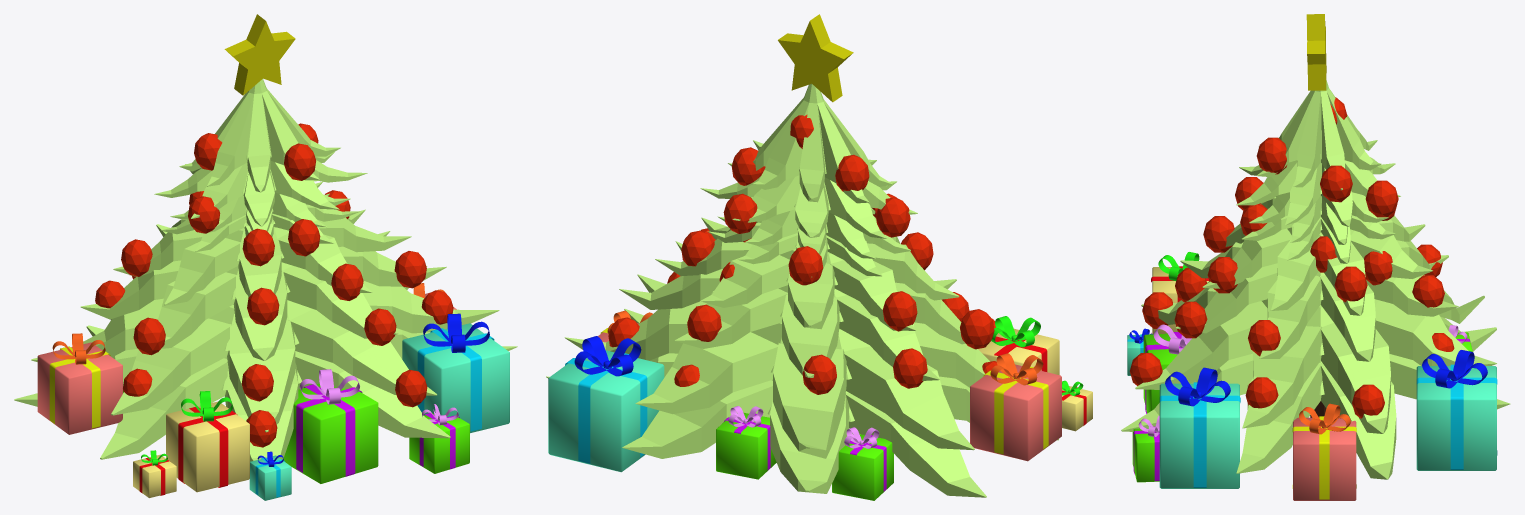
Rendered from gift.fbx.
The picture shows the model from 3 angles, left to right: view 1: azimuth 30°, elevation 25°; view 2: azimuth 150°, elevation 25°; view 3: azimuth 270°, elevation 25°; orthographic projection. The views are drawn at different scales.
Parts seen in each view (by area): view 1: Cylinder.059, christmas present.005, christmas present.009, christmas present.007, christmas present.008, Star, christmas present.014, christmas present.001, christmas present.003, christmas present.025, christmas present.012, christmas present.002 (+20 smaller); view 2: Cylinder.059, christmas present.022, christmas present.008, Star, christmas present.024, christmas present.028, christmas present.005, christmas present.020, christmas present.021, christmas present.002, christmas present.001, Icosphere.005 (+13 smaller); view 3: Cylinder.059, christmas present.009, christmas present.022, christmas present.017, christmas present.020, christmas present.003, Star, christmas present.004, christmas present.021, christmas present.005, christmas present.014, Icosphere.020 (+22 smaller).
Boxes of the visible parts, bbox=[...] form: Cylinder.059: bbox=[14, 79, 517, 461]; christmas present.005: bbox=[166, 391, 249, 492]; christmas present.009: bbox=[402, 323, 509, 433]; christmas present.007: bbox=[283, 383, 378, 483]; christmas present.008: bbox=[37, 342, 122, 434]; Star: bbox=[224, 14, 295, 95]; christmas present.014: bbox=[409, 413, 469, 473]; christmas present.001: bbox=[133, 450, 176, 498]; christmas present.003: bbox=[417, 328, 494, 431]; christmas present.025: bbox=[296, 384, 362, 476]; christmas present.012: bbox=[249, 455, 291, 500]; christmas present.002: bbox=[49, 346, 110, 428]; Cylinder.059: bbox=[546, 83, 1058, 497]; christmas present.022: bbox=[548, 350, 664, 472]; christmas present.008: bbox=[970, 364, 1061, 461]; Star: bbox=[778, 14, 853, 102]; christmas present.024: bbox=[832, 433, 893, 500]; christmas present.028: bbox=[716, 412, 776, 479]; christmas present.005: bbox=[978, 316, 1059, 375]; christmas present.020: bbox=[565, 353, 647, 463]; christmas present.021: bbox=[574, 336, 641, 376]; christmas present.002: bbox=[983, 366, 1048, 454]; christmas present.001: bbox=[1062, 380, 1092, 431]; Icosphere.005: bbox=[960, 309, 994, 349]; Cylinder.059: bbox=[1121, 80, 1510, 479]; christmas present.009: bbox=[1159, 383, 1239, 488]; christmas present.022: bbox=[1416, 366, 1496, 470]; christmas present.017: bbox=[1293, 417, 1356, 500]; christmas present.020: bbox=[1416, 364, 1497, 469]; christmas present.003: bbox=[1159, 382, 1240, 487]; Star: bbox=[1306, 14, 1326, 90]; christmas present.004: bbox=[1165, 367, 1230, 406]; christmas present.021: bbox=[1422, 350, 1487, 388]; christmas present.005: bbox=[1151, 252, 1208, 334]; christmas present.014: bbox=[1132, 428, 1159, 482]; Icosphere.020: bbox=[1365, 180, 1398, 217].
Size of the model in its own units: 1765 by 1613 by 1386.
